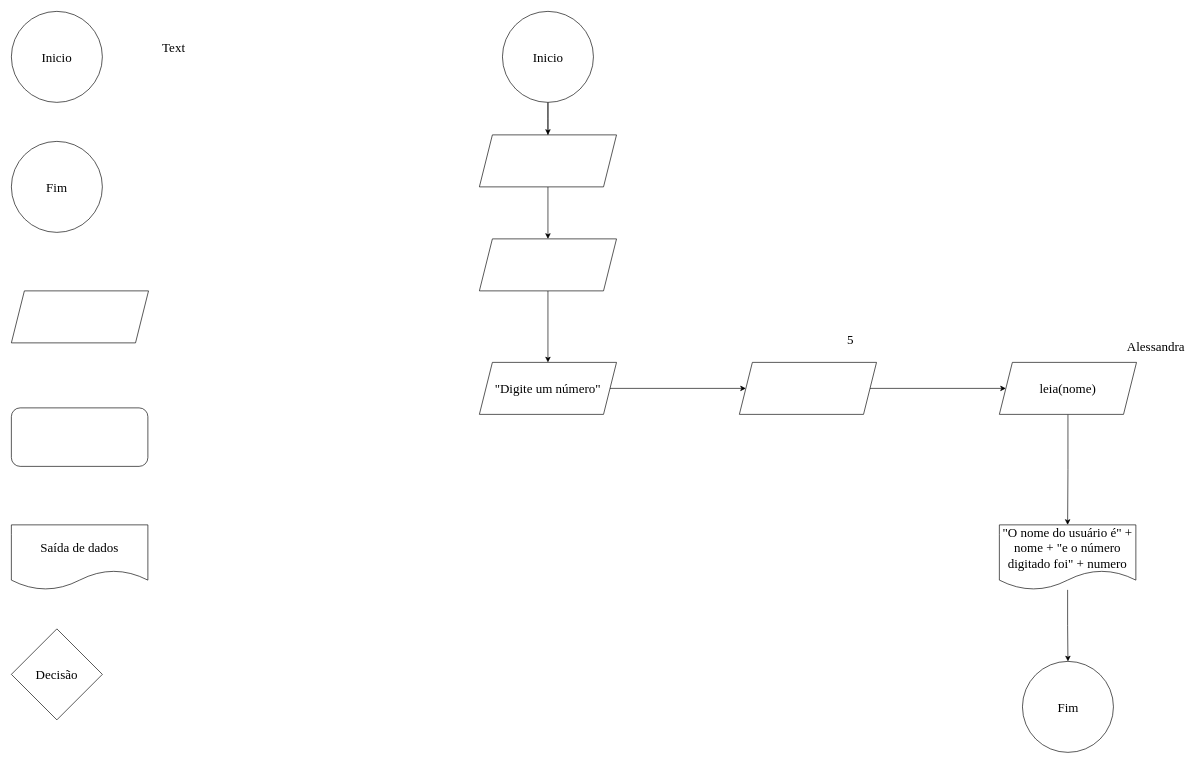
Some shapes in this 1196 by 764 pixel diagram are drawn without their labels. The shapes that lost their labels are listed below. From the top down, each one's centre as x and y in pixels, then its label:
pixel 548 160: cadeia nome inteiro número
pixel 548 264: "Informe seu nome"
pixel 80 316: Entrada de dados
pixel 808 388: leia (número)
pixel 79 436: Procedimento
